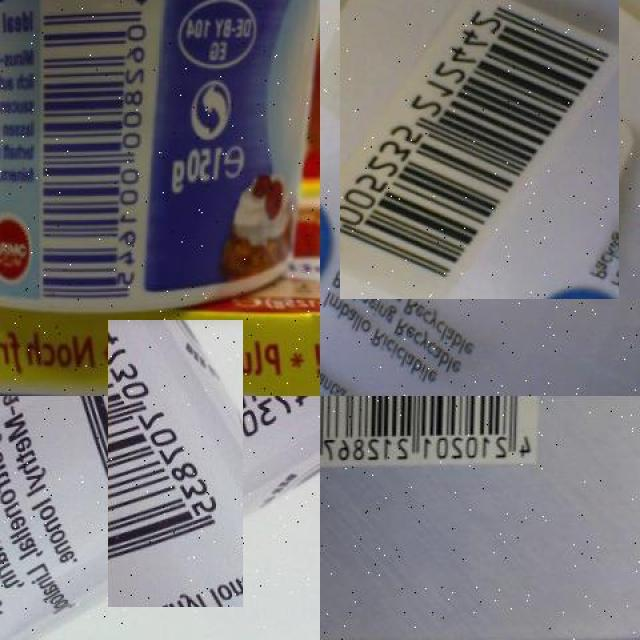Barcode: (330, 0, 629, 289), (70, 358, 282, 569), (30, 0, 162, 307), (320, 396, 545, 469)
